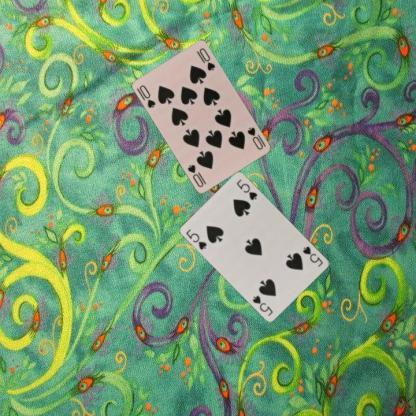10s: (245, 125, 268, 151), (137, 82, 157, 109)
5s: (184, 226, 208, 251), (300, 244, 324, 268)
